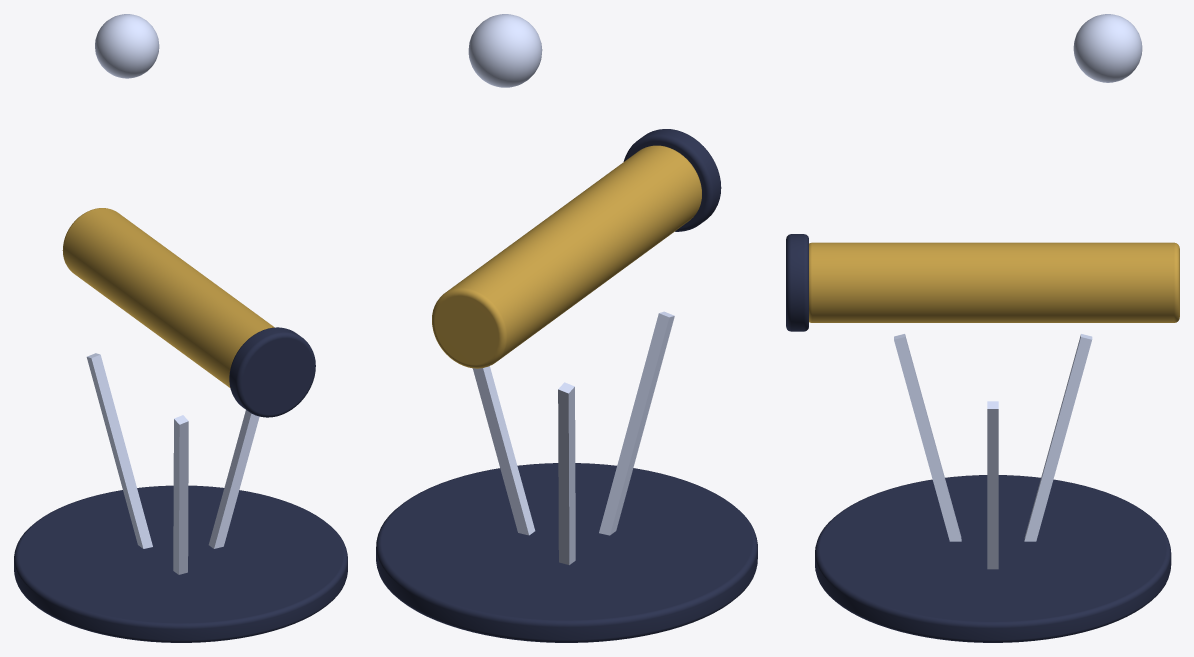
The model's file is theme_11.glb.
3 renders of one model, left to right at view 1: azimuth 30°, elevation 25°; view 2: azimuth 150°, elevation 25°; view 3: azimuth 270°, elevation 25°, orthographic. The views are drawn at different scales.
Parts seen in each view (by area): view 1: theme_11; view 2: theme_11; view 3: theme_11.
Boxes of the visible parts, x1,y1,x2,y2 form: theme_11: (14, 14, 347, 642); theme_11: (376, 14, 757, 642); theme_11: (786, 14, 1179, 642).
Bounding box in the file's own units: 1.24 × 2.13 × 1.37.
